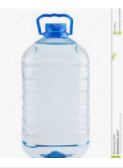Bottle: (21, 15, 91, 153)
